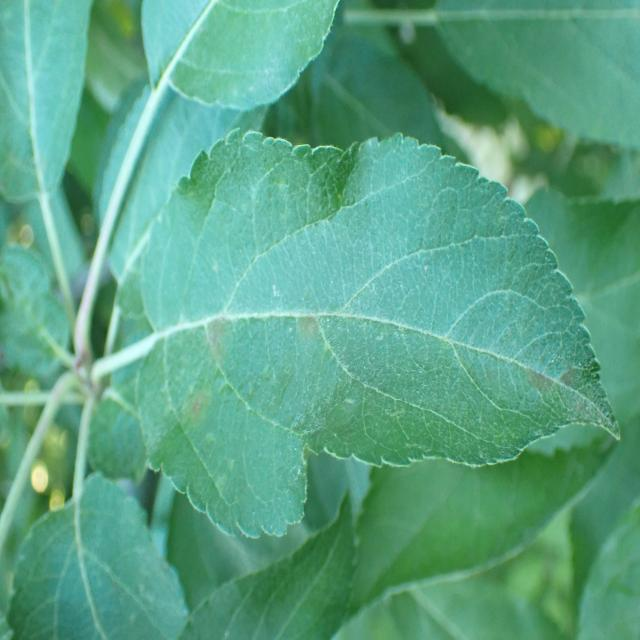scab: (124, 194, 602, 498)
